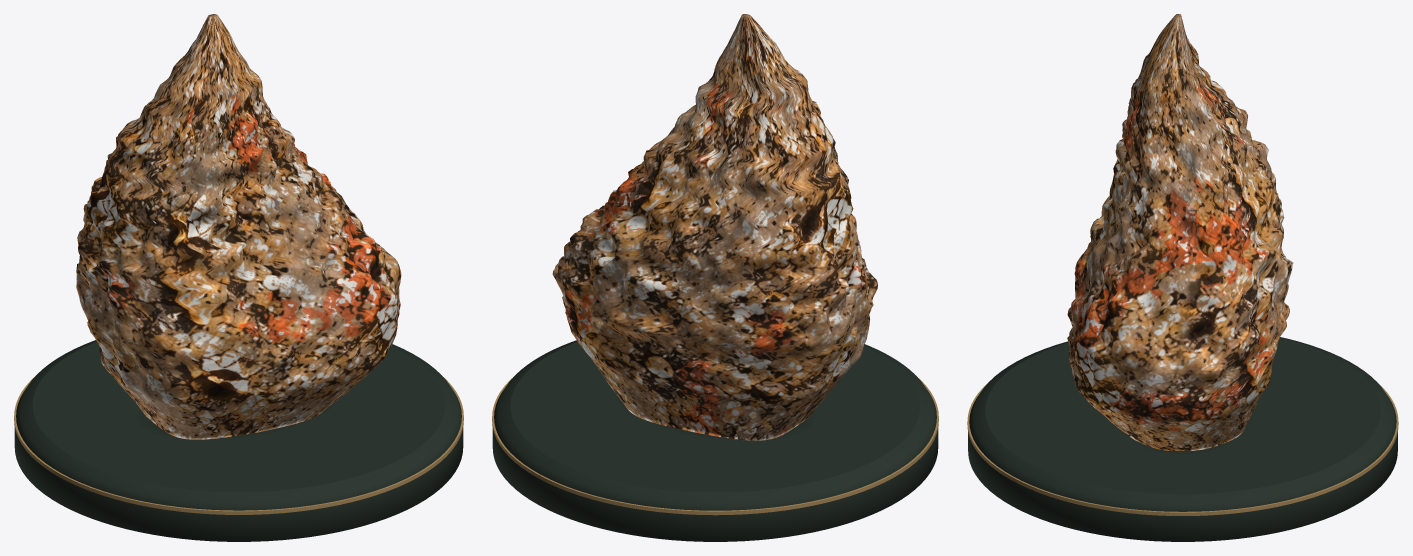
File: lingstone-art-01-v20-77c0d90c8711.glb
The picture shows the model from 3 angles, left to right: view 1: azimuth 30°, elevation 25°; view 2: azimuth 150°, elevation 25°; view 3: azimuth 270°, elevation 25°; orthographic projection. The views are drawn at different scales.
Parts seen in each view (by area): view 1: art-4da8666c3a9e6dc4 concept stone, Centered beveled display plinth, Champagne gold edge; view 2: art-4da8666c3a9e6dc4 concept stone, Centered beveled display plinth, Champagne gold edge; view 3: art-4da8666c3a9e6dc4 concept stone, Centered beveled display plinth, Champagne gold edge.
Boxes of the visible parts, x1,y1,x2,y2 form: art-4da8666c3a9e6dc4 concept stone: [76, 14, 401, 439]; Centered beveled display plinth: [14, 340, 463, 541]; Champagne gold edge: [14, 377, 463, 514]; art-4da8666c3a9e6dc4 concept stone: [552, 14, 877, 440]; Centered beveled display plinth: [492, 340, 938, 541]; Champagne gold edge: [492, 378, 938, 515]; art-4da8666c3a9e6dc4 concept stone: [1067, 14, 1293, 450]; Centered beveled display plinth: [968, 337, 1397, 541]; Champagne gold edge: [967, 382, 1398, 515].
Size of the model in its own units: 1.69 by 1.85 by 1.69.
Materials: 4 (1 with a texture image).
